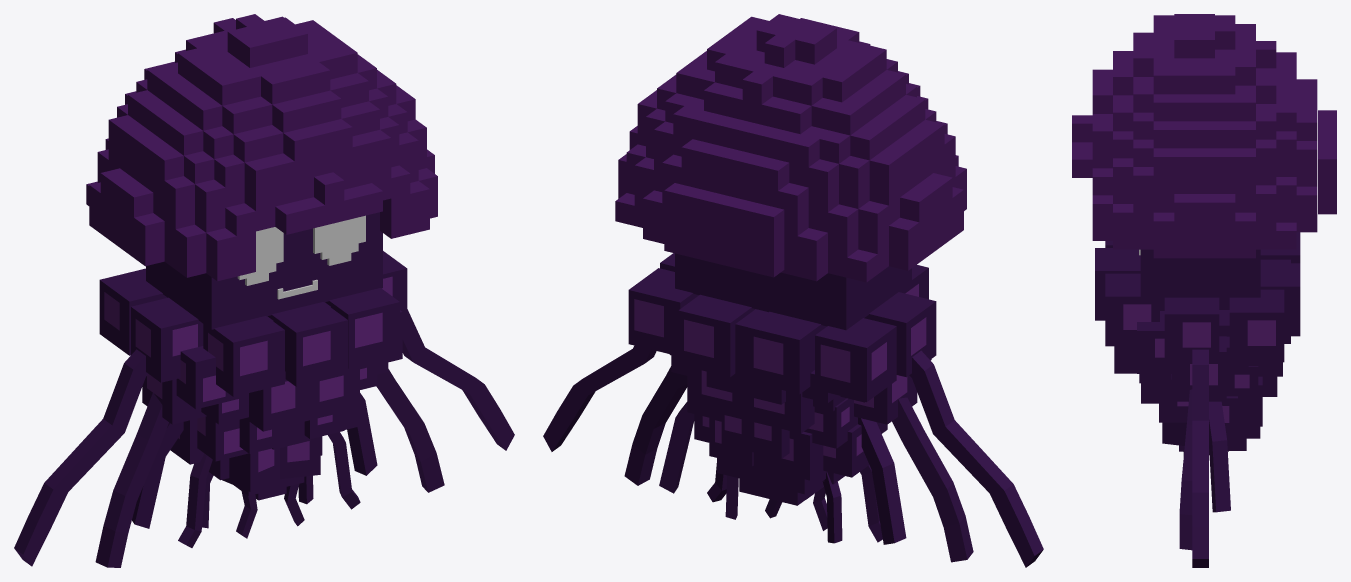
File: Graipuss Medussi.obj
3 views of the same model, side by side, from view 1: azimuth 30°, elevation 25°; view 2: azimuth 150°, elevation 25°; view 3: azimuth 270°, elevation 25° (orthographic). The views are drawn at different scales.
Parts seen in each view (by area): view 1: Cube1, Circle1, Cube0041, Circle0011; view 2: Circle1, Cube1, Cube0041; view 3: Circle1, Cube1, Cube0041.
Part boxes in pixels (x1,y1,x2,y2): Cube1: (14, 212, 514, 567); Circle1: (86, 14, 437, 281); Cube0041: (104, 276, 392, 472); Circle0011: (237, 215, 365, 299); Circle1: (615, 14, 966, 282); Cube1: (543, 253, 1043, 567); Cube0041: (634, 284, 926, 461); Circle1: (1072, 14, 1336, 258); Cube1: (1095, 232, 1300, 567); Cube0041: (1123, 304, 1275, 422).
Size of the model in its own units: 8.66 by 8.36 by 4.41.
